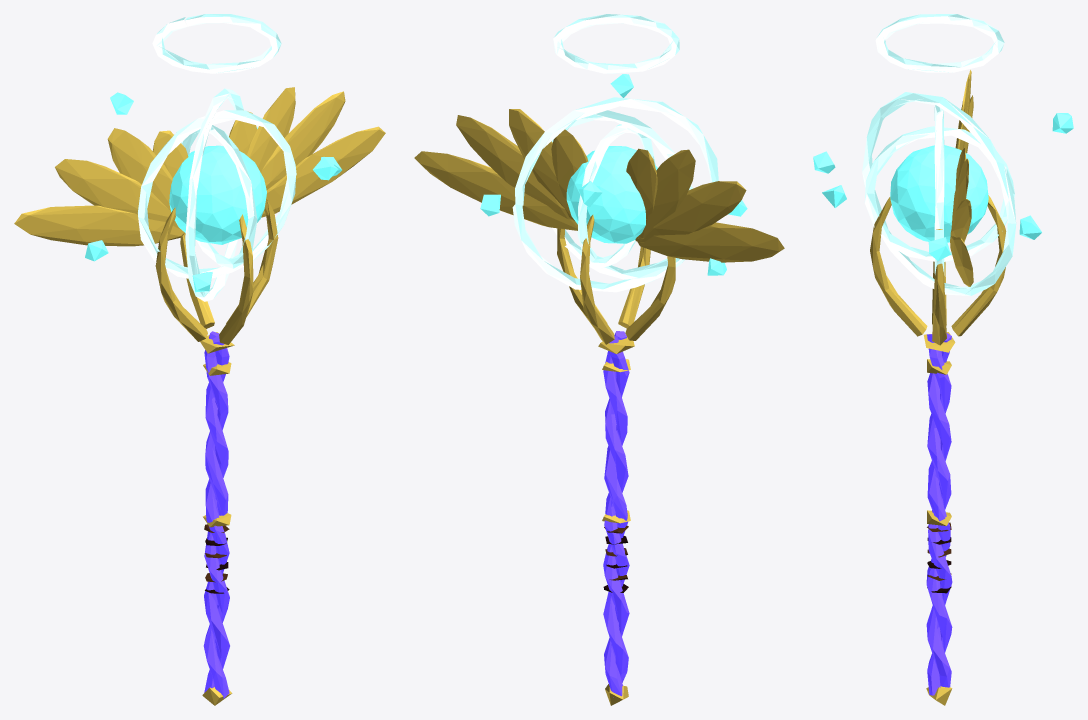
Rendered from staff_9.glb.
The picture shows the model from 3 angles, left to right: view 1: azimuth 30°, elevation 25°; view 2: azimuth 150°, elevation 25°; view 3: azimuth 270°, elevation 25°; orthographic projection.
Visible parts, largest first — view 1: part_13, part_17, part_15, part_02, part_18, part_01, part_21, part_25, part_16, part_22, part_19, part_14 (+7 smaller); view 2: part_16, part_13, part_21, part_17, part_01, part_02, part_22, part_18, part_25, part_15, part_19, part_23 (+7 smaller); view 3: part_13, part_16, part_01, part_02, part_14, part_25, part_27, part_15, part_29, part_26, part_21, part_22 (+1 smaller).
Boxes of the visible parts, box(x1,y1,x2,y2) form: part_13: box(169, 145, 266, 244); part_17: box(14, 205, 184, 246); part_15: box(138, 110, 296, 278); part_02: box(203, 331, 229, 698); part_18: box(55, 159, 185, 233); part_01: box(204, 336, 229, 692); part_21: box(261, 126, 385, 217); part_25: box(152, 14, 281, 73); part_16: box(185, 88, 243, 301); part_22: box(261, 91, 345, 189); part_19: box(107, 128, 172, 210); part_14: box(181, 125, 257, 268); part_16: box(512, 97, 718, 292); part_13: box(566, 146, 657, 243); part_21: box(414, 151, 577, 230); part_17: box(636, 222, 784, 262); part_01: box(603, 331, 629, 697); part_02: box(603, 335, 629, 682); part_22: box(456, 115, 571, 219); part_18: box(635, 181, 746, 242); part_25: box(553, 14, 679, 73); part_15: box(552, 110, 692, 279); part_19: box(636, 149, 695, 239); part_23: box(509, 109, 575, 221); part_13: box(890, 145, 988, 242); part_16: box(862, 92, 1016, 295); part_01: box(926, 334, 952, 687); part_02: box(926, 333, 952, 695); part_14: box(864, 126, 1014, 261); part_25: box(875, 14, 1004, 72); part_27: box(870, 197, 927, 336); part_15: box(934, 105, 944, 275); part_29: box(951, 195, 1006, 336); part_26: box(932, 229, 946, 345); part_21: box(950, 235, 973, 286); part_22: box(950, 199, 971, 242).
Size of the model in its own units: 1.16 by 1.98 by 0.703.
